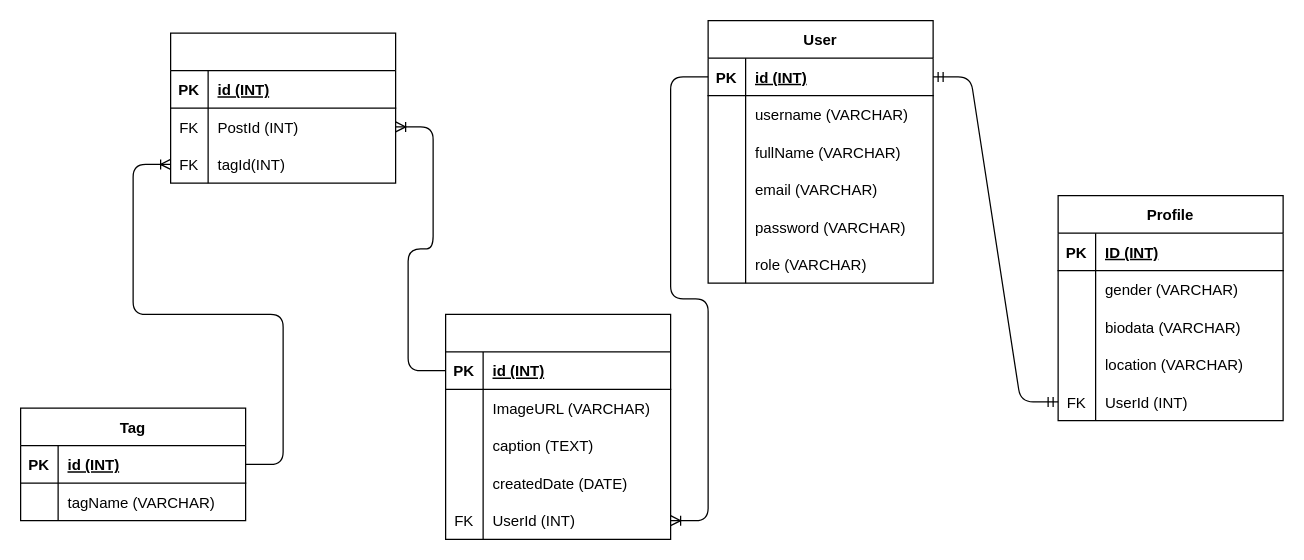
Image size: 1304x560. Some labels were removed from this diagram. The box of each missing label's shape, as (x1, y1, x2, y2) in pixels:
Post: (444, 313, 671, 539)
PostTag: (169, 32, 396, 183)
